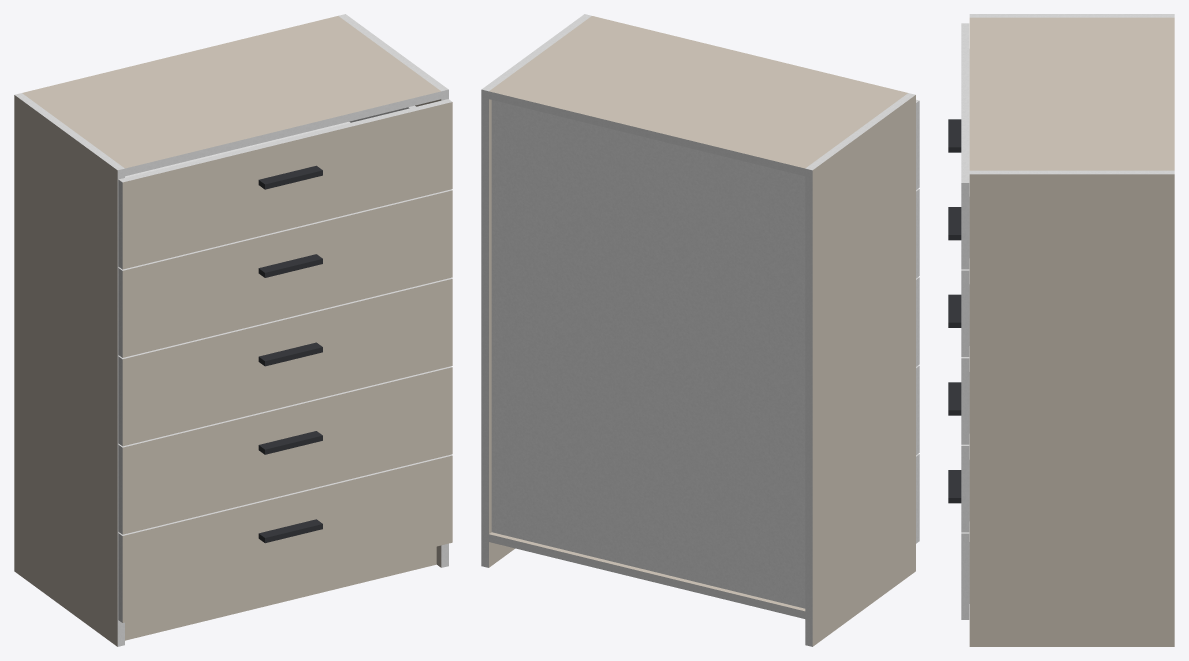
The model's file is CAL-CHT-tall.glb.
3 views of the same model, side by side, from view 1: azimuth 30°, elevation 25°; view 2: azimuth 150°, elevation 25°; view 3: azimuth 270°, elevation 25° (orthographic).
Visible parts, largest first — view 1: side-l:pbr, top:pbr, d2-front:pbr, d4-front:pbr, d1-front:pbr, d3-front:pbr, d5-front:pbr, plinth:pbr, pull, top:sheet:eyJtIjoibWRmIiwic2lkZSI6ImVkZ2UtbG9uZyIsInNlZWQiOj, d5-front:sheet:eyJtIjoibWRmIiwic2lkZSI6ImVkZ2UtbG9uZyIsInNlZ, side-l:sheet:eyJtIjoibWRmIiwic2lkZSI6ImVkZ2UtbG9uZyIsInNlZWQ (+6 smaller); view 2: back:sheet:eyJtIjoibWRmIiwic2lkZSI6ImZhY2UiLCJzZWVkIjo0LCJ0a, side-l:pbr, top:pbr, side-r:sheet:eyJtIjoibWRmIiwic2lkZSI6ImVkZ2UtbG9uZyIsInNlZWQ, side-l:sheet:eyJtIjoibWRmIiwic2lkZSI6ImVkZ2UtbG9uZyIsInNlZWQ, top:sheet:eyJtIjoibWRmIiwic2lkZSI6ImVkZ2UtbG9uZyIsInNlZWQiOj, bottom:sheet:eyJtIjoibWRmIiwic2lkZSI6ImVkZ2UtbG9uZyIsInNlZWQ, side-r:pbr, bottom:pbr, side-r:sheet:eyJtIjoibWRmIiwic2lkZSI6ImVkZ2UtZW5kIiwic2VlZCI, side-l:sheet:eyJtIjoibWRmIiwic2lkZSI6ImVkZ2UtZW5kIiwic2VlZCI; view 3: side-r:pbr, top:pbr, pull, d5-front:sheet:eyJtIjoibWRmIiwic2lkZSI6ImVkZ2UtbG9uZyIsInNlZ, side-r:sheet:eyJtIjoibWRmIiwic2lkZSI6ImVkZ2UtZW5kIiwic2VlZCI, side-l:sheet:eyJtIjoibWRmIiwic2lkZSI6ImVkZ2UtZW5kIiwic2VlZCI, d3-front:sheet:eyJtIjoibWRmIiwic2lkZSI6ImVkZ2UtZW5kIiwic2VlZ, d1-front:sheet:eyJtIjoibWRmIiwic2lkZSI6ImVkZ2UtZW5kIiwic2VlZ, d2-front:sheet:eyJtIjoibWRmIiwic2lkZSI6ImVkZ2UtZW5kIiwic2VlZ, d4-front:sheet:eyJtIjoibWRmIiwic2lkZSI6ImVkZ2UtZW5kIiwic2VlZ, d5-front:sheet:eyJtIjoibWRmIiwic2lkZSI6ImVkZ2UtZW5kIiwic2VlZ.
Part boxes in pixels (x1,y1,x2,y2): side-l:pbr: (14, 95, 117, 646); top:pbr: (22, 16, 440, 168); d2-front:pbr: (122, 367, 452, 534); d4-front:pbr: (122, 190, 452, 357); d1-front:pbr: (122, 455, 452, 622); d3-front:pbr: (122, 279, 452, 446); d5-front:pbr: (122, 102, 452, 269); plinth:pbr: (125, 546, 436, 640); pull: (258, 165, 322, 543); top:sheet:eyJtIjoibWRmIiwic2lkZSI6ImVkZ2UtbG9uZyIsInNlZWQiOj: (125, 91, 441, 176); d5-front:sheet:eyJtIjoibWRmIiwic2lkZSI6ImVkZ2UtbG9uZyIsInNlZ: (118, 99, 451, 182); side-l:sheet:eyJtIjoibWRmIiwic2lkZSI6ImVkZ2UtbG9uZyIsInNlZWQ: (117, 168, 124, 646); back:sheet:eyJtIjoibWRmIiwic2lkZSI6ImZhY2UiLCJzZWVkIjo0LCJ0a: (491, 100, 805, 608); side-l:pbr: (812, 95, 915, 646); top:pbr: (489, 16, 907, 168); side-r:sheet:eyJtIjoibWRmIiwic2lkZSI6ImVkZ2UtbG9uZyIsInNlZWQ: (481, 89, 488, 567); side-l:sheet:eyJtIjoibWRmIiwic2lkZSI6ImVkZ2UtbG9uZyIsInNlZWQ: (805, 168, 812, 646); top:sheet:eyJtIjoibWRmIiwic2lkZSI6ImVkZ2UtbG9uZyIsInNlZWQiOj: (489, 91, 805, 176); bottom:sheet:eyJtIjoibWRmIiwic2lkZSI6ImVkZ2UtbG9uZyIsInNlZWQ: (489, 534, 805, 618); side-r:pbr: (489, 99, 514, 567); bottom:pbr: (489, 532, 805, 611); side-r:sheet:eyJtIjoibWRmIiwic2lkZSI6ImVkZ2UtZW5kIiwic2VlZCI: (481, 14, 591, 91); side-l:sheet:eyJtIjoibWRmIiwic2lkZSI6ImVkZ2UtZW5kIiwic2VlZCI: (805, 93, 915, 170); side-r:pbr: (969, 174, 1174, 646); top:pbr: (969, 17, 1174, 170); pull: (948, 119, 961, 503); d5-front:sheet:eyJtIjoibWRmIiwic2lkZSI6ImVkZ2UtbG9uZyIsInNlZ: (961, 23, 969, 182); side-r:sheet:eyJtIjoibWRmIiwic2lkZSI6ImVkZ2UtZW5kIiwic2VlZCI: (969, 170, 1174, 174); side-l:sheet:eyJtIjoibWRmIiwic2lkZSI6ImVkZ2UtZW5kIiwic2VlZCI: (969, 14, 1174, 17); d3-front:sheet:eyJtIjoibWRmIiwic2lkZSI6ImVkZ2UtZW5kIiwic2VlZ: (961, 358, 969, 444); d1-front:sheet:eyJtIjoibWRmIiwic2lkZSI6ImVkZ2UtZW5kIiwic2VlZ: (961, 533, 969, 619); d2-front:sheet:eyJtIjoibWRmIiwic2lkZSI6ImVkZ2UtZW5kIiwic2VlZ: (961, 446, 969, 532); d4-front:sheet:eyJtIjoibWRmIiwic2lkZSI6ImVkZ2UtZW5kIiwic2VlZ: (961, 270, 969, 356); d5-front:sheet:eyJtIjoibWRmIiwic2lkZSI6ImVkZ2UtZW5kIiwic2VlZ: (961, 183, 969, 269).
Size of the model in its own units: 0.8 by 1.1 by 0.4769.
109 materials, 98 textured.
